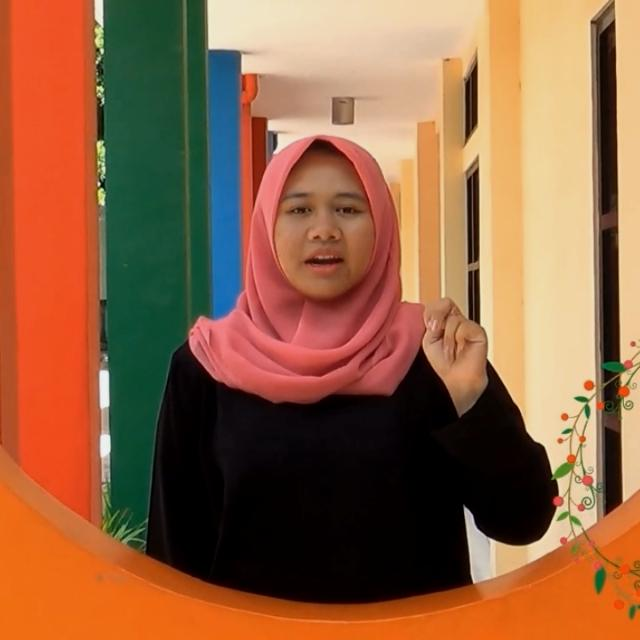N: (418, 296, 488, 386)
